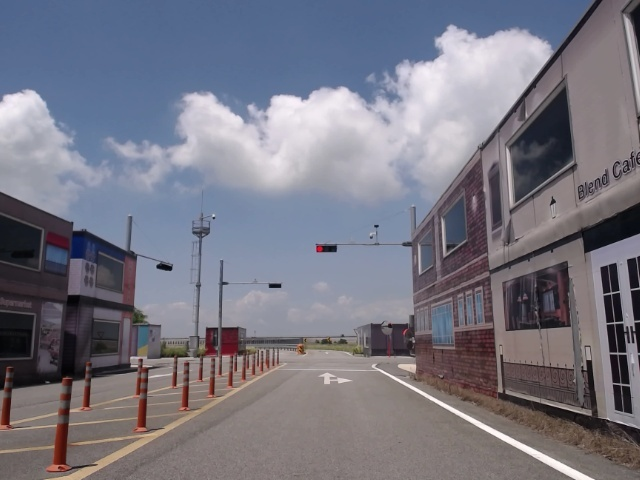red_3: (316, 245, 338, 253)
